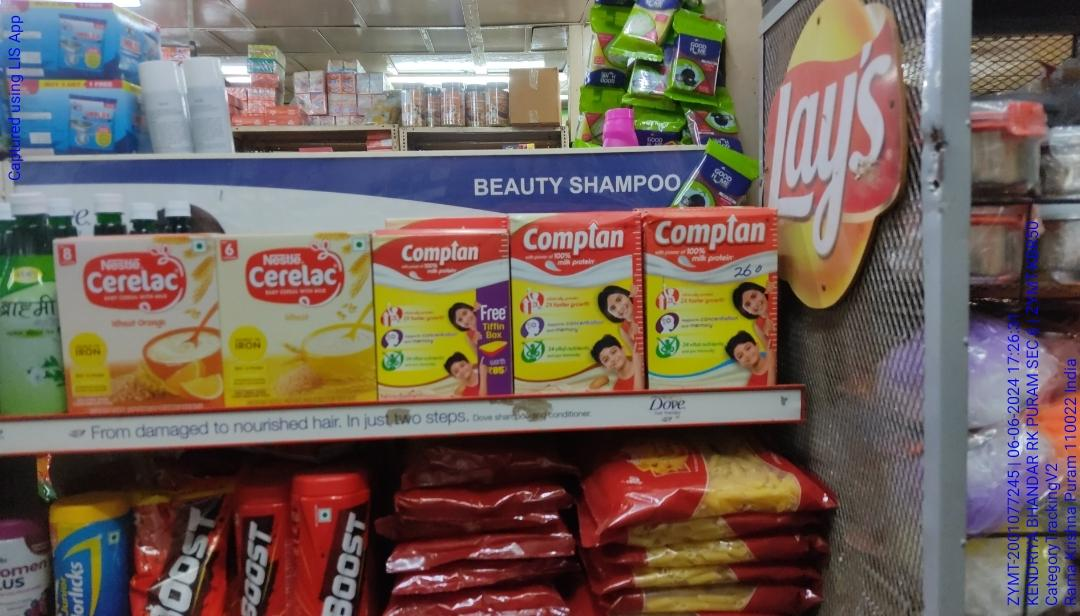COMPLAN_CREAMY_CLASSIC_500_G_PACK: (647, 213, 775, 386)
COMPLAN_KESAR_BADAM_500_GMS_PACK: (511, 217, 642, 390), (373, 235, 507, 401)
